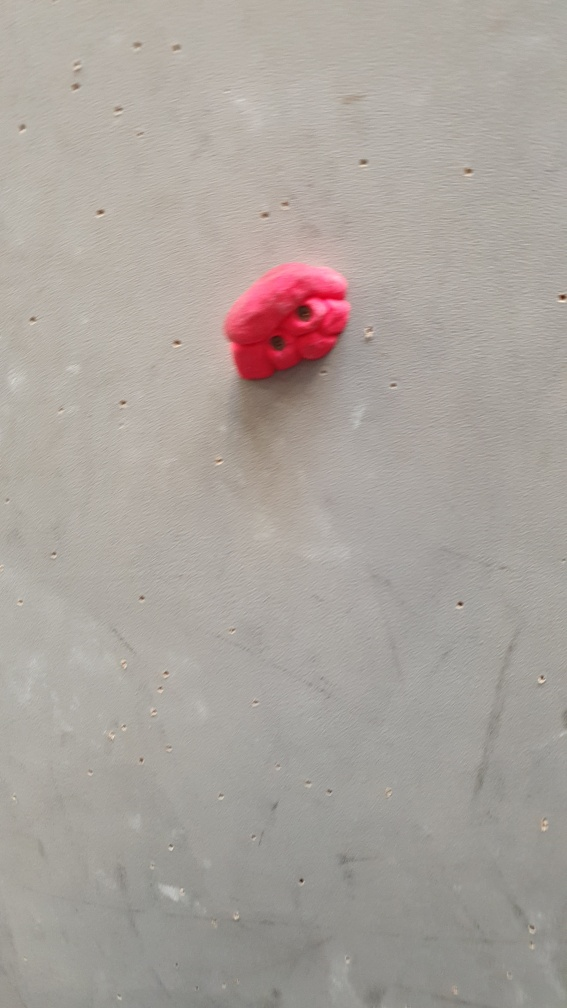Jug: (218, 255, 359, 387)
